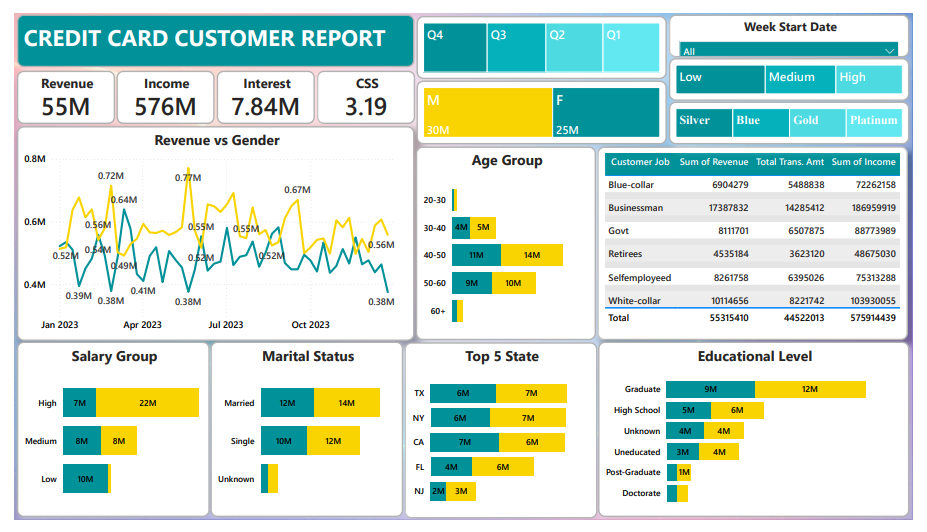

The dashboard page shown, as its layout file describes it:
{"tool":"powerbi","page":{"name":"CC Customer Report","canvas":[1280,720],"ordinal":1},"visuals":[{"type":"textbox","box":[2.9,1.4,567.4,74.9],"z":0},{"type":"tableEx","fields":{"Values":["public cust_detail.customer_job","Sum(public cc_detail.Revenue)","Sum(public cc_detail.total_trans_amt)","Sum(public cust_detail.income)"]},"box":[830.9,188.6,443.5,276.5],"z":1000},{"type":"card","title":"Revenue","fields":{"Values":["Sum(public cc_detail.Revenue)"]},"box":[2.9,80.6,139.7,76.3],"z":2000},{"type":"card","title":"Income","fields":{"Values":["Sum(public cust_detail.income)"]},"box":[145.4,80.6,140,76.3],"z":3000},{"type":"card","title":"CSS","fields":{"Values":["Avg(public cust_detail.cust_satisfaction_score)"]},"box":[430.6,80.6,140,76.3],"z":4000},{"type":"card","title":"Interest ","fields":{"Values":["Sum(public cc_detail.interest_earned)"]},"box":[288,80.6,140,76.3],"z":5000},{"type":"slicer","title":"Week Start Date","fields":{"Values":["public cc_detail.week_start_date"]},"box":[933.1,1.4,342.7,60.5],"z":6000},{"type":"treemap","fields":{"Group":["public cc_detail.qtr"],"Values":["Avg(public cc_detail.client_num)"]},"box":[573.1,2.9,357,90],"z":7000},{"type":"treemap","fields":{"Values":["Avg(public cc_detail.client_num)"],"Group":["public cust_detail.gender"]},"box":[1038.2,565.9,197.3,119.5],"z":8000},{"type":"treemap","fields":{"Values":["Sum(public cc_detail.client_num)"],"Group":["public cust_detail.Income Group"]},"box":[933.1,63.4,342.7,60.5],"z":9000},{"type":"lineChart","title":"Revenue vs Gender","fields":{"Y":["Sum(public cc_detail.Revenue)"],"Series":["public cust_detail.gender"],"Category":["public cc_detail.week_start_date.Variation.Date Hierarchy.Year","public cc_detail.week_start_date.Variation.Date Hierarchy.Quarter","public cc_detail.week_start_date.Variation.Date Hierarchy.Month","public cc_detail.week_start_date.Variation.Date Hierarchy.Day"]},"box":[2.9,159.8,567.4,306],"z":10000},{"type":"treemap","fields":{"Values":["Sum(public cc_detail.Revenue)"],"Group":["public cust_detail.gender"]},"box":[573.1,95,357.1,90.7],"z":11000},{"type":"barChart","title":"Salary Group","fields":{"Y":["Sum(public cc_detail.Revenue)"],"Category":["public cust_detail.Income Group"],"Series":["public cust_detail.gender"]},"box":[2.9,466.6,275,250.6],"z":12000},{"type":"barChart","title":"Age Group","fields":{"Y":["Sum(public cc_detail.Revenue)"],"Series":["public cust_detail.gender"],"Category":["public cust_detail.Age Group"]},"box":[571.7,188.6,257,276.5],"z":13000},{"type":"barChart","title":"Top 5 State","fields":{"Y":["Sum(public cc_detail.Revenue)"],"Series":["public cust_detail.gender"],"Category":["public cust_detail.state_cd"]},"box":[555.8,468,275,250.6],"z":14000},{"type":"barChart","title":"Marital Status","fields":{"Y":["Sum(public cc_detail.Revenue)"],"Series":["public cust_detail.gender"],"Category":["public cust_detail.marital_status"]},"box":[279.4,466.6,275,250.6],"z":15000},{"type":"barChart","title":"Educational Level","fields":{"Y":["Sum(public cc_detail.Revenue)"],"Series":["public cust_detail.gender"],"Category":["public cust_detail.education_level"]},"box":[832.3,466.6,443.5,250.6],"z":16000},{"type":"treemap","fields":{"Values":["Avg(public cc_detail.client_num)"],"Group":["public cc_detail.card_category"]},"box":[933.1,125.3,342.7,60.5],"z":17000}]}

Visuals, with their boxes in screenshot pixels (x1, y1, x2, y2), scaled from the page's 1280x720 canvas onto the 927x532 screenshot:
textbox: (x1=2, y1=1, x2=413, y2=56)
tableEx - public cust_detail.customer_job x Sum(public cc_detail.Revenue): (x1=602, y1=139, x2=923, y2=344)
"Revenue" card: (x1=2, y1=60, x2=103, y2=116)
"Income" card: (x1=105, y1=60, x2=207, y2=116)
"CSS" card: (x1=312, y1=60, x2=413, y2=116)
"Interest " card: (x1=209, y1=60, x2=310, y2=116)
"Week Start Date" slicer: (x1=676, y1=1, x2=924, y2=46)
treemap - public cc_detail.qtr x Avg(public cc_detail.client_num): (x1=415, y1=2, x2=674, y2=69)
treemap - Avg(public cc_detail.client_num) x public cust_detail.gender: (x1=752, y1=418, x2=895, y2=506)
treemap - Sum(public cc_detail.client_num) x public cust_detail.Income Group: (x1=676, y1=47, x2=924, y2=92)
"Revenue vs Gender" lineChart: (x1=2, y1=118, x2=413, y2=344)
treemap - Sum(public cc_detail.Revenue) x public cust_detail.gender: (x1=415, y1=70, x2=674, y2=137)
"Salary Group" barChart: (x1=2, y1=345, x2=201, y2=530)
"Age Group" barChart: (x1=414, y1=139, x2=600, y2=344)
"Top 5 State" barChart: (x1=403, y1=346, x2=602, y2=531)
"Marital Status" barChart: (x1=202, y1=345, x2=402, y2=530)
"Educational Level" barChart: (x1=603, y1=345, x2=924, y2=530)
treemap - Avg(public cc_detail.client_num) x public cc_detail.card_category: (x1=676, y1=93, x2=924, y2=137)
